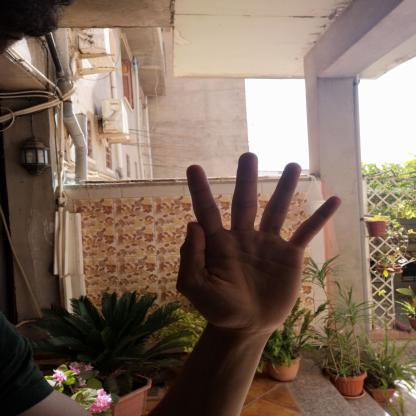SHEEN: (158, 140, 349, 341)
